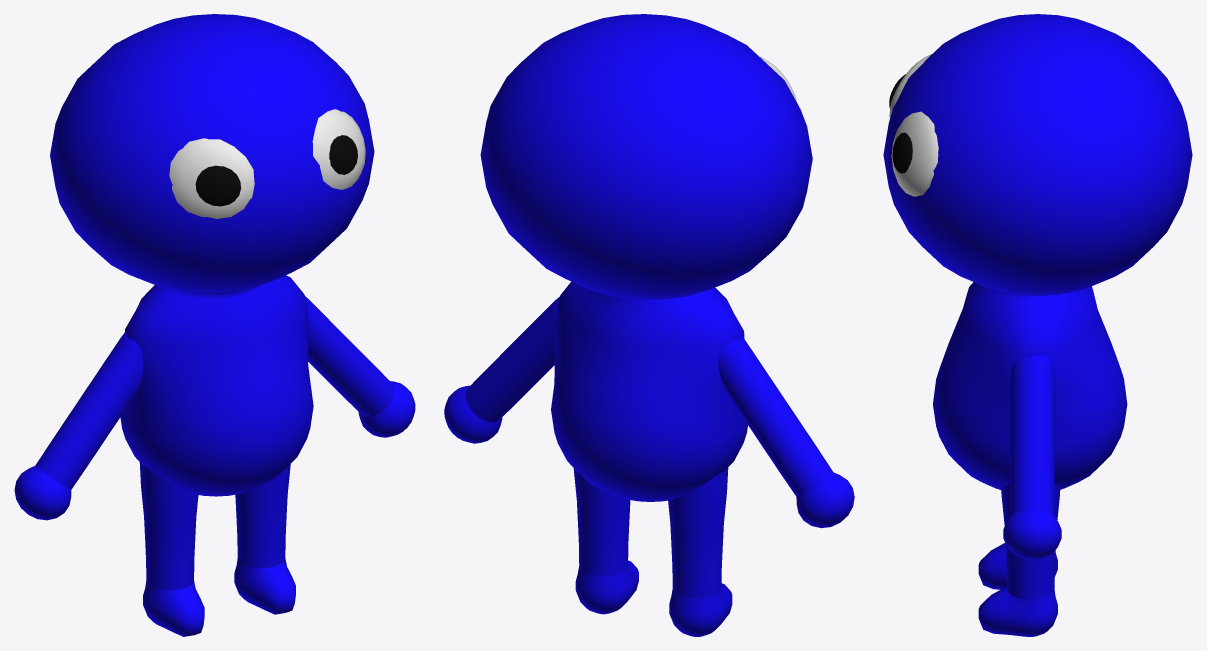
File: character.FBX
The picture shows the model from 3 angles, left to right: view 1: azimuth 30°, elevation 25°; view 2: azimuth 150°, elevation 25°; view 3: azimuth 270°, elevation 25°; orthographic projection. The views are drawn at different scales.
Parts seen in each view (by area): view 1: Body; view 2: Body; view 3: Body.
Part boxes in pixels (x1,y1,x2,y2): Body: [14, 14, 415, 636]; Body: [444, 14, 854, 636]; Body: [883, 14, 1192, 636].
Bounding box in the file's own units: 27.05 × 38.28 × 18.49.
